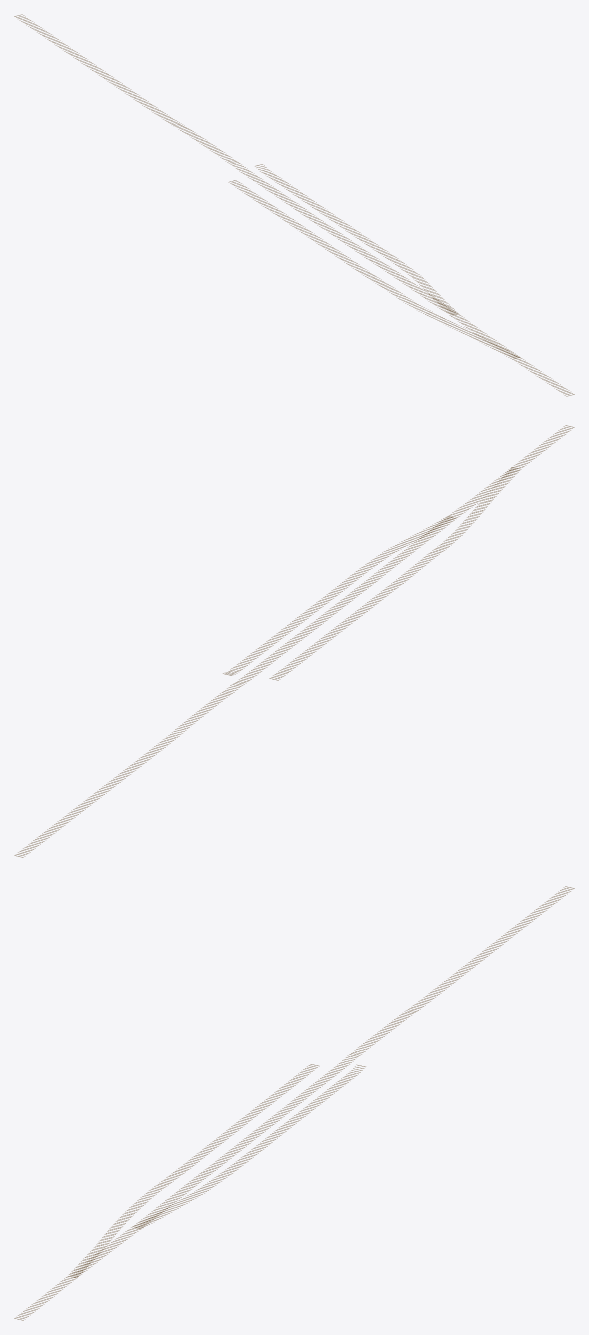
Rendered from c_1632_17824_rail_sleeper.glb.
3 renders of one model, top to bottom at view 1: azimuth 30°, elevation 25°; view 2: azimuth 150°, elevation 25°; view 3: azimuth 330°, elevation 25°, orthographic. The views are drawn at different scales.
Parts seen in each view (by area): view 1: geometry_0; view 2: geometry_0; view 3: geometry_0.
Part boxes in pixels (left/top/right/bottom): geometry_0: left=14, top=14, right=574, bottom=396; geometry_0: left=14, top=425, right=574, bottom=857; geometry_0: left=14, top=886, right=574, bottom=1320.
Bounding box in the file's own units: 13.77 × 0.7391 × 255.
